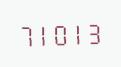one: (35, 20, 51, 47), (69, 19, 85, 46)
seven: (18, 21, 34, 47)
three: (86, 19, 102, 45)
zero: (52, 20, 68, 46)
